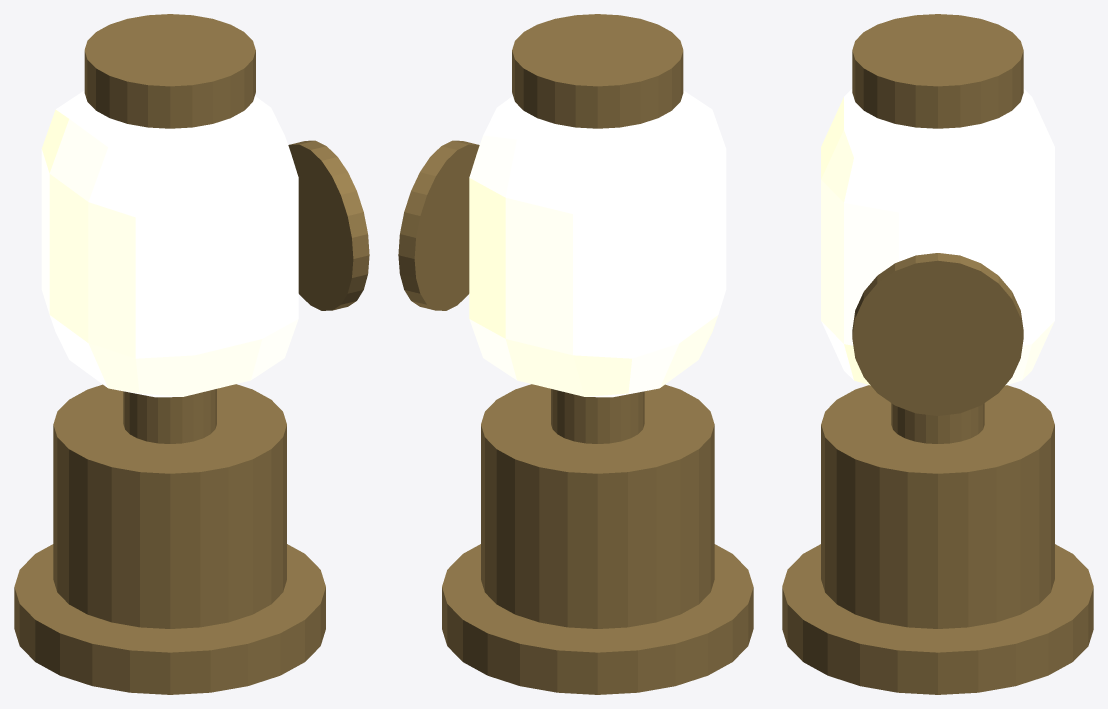
File: lamp.glb
The picture shows the model from 3 angles, left to right: view 1: azimuth 30°, elevation 25°; view 2: azimuth 150°, elevation 25°; view 3: azimuth 270°, elevation 25°; orthographic projection.
Visible parts, largest first — view 1: lamp; view 2: lamp; view 3: lamp.
Part boxes in pixels (x1,y1,x2,y2): lamp: (14, 14, 369, 694); lamp: (398, 14, 753, 694); lamp: (782, 14, 1093, 694).
Size of the model in its own units: 0.216 by 0.41 by 0.2.
